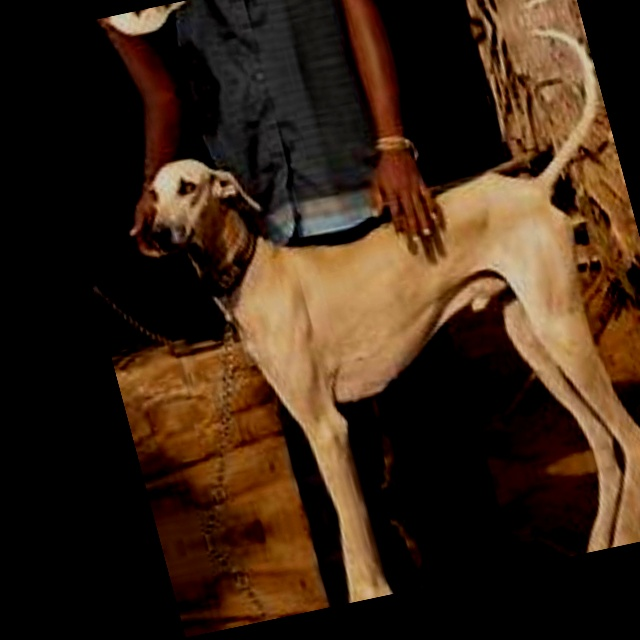dog: (102, 65, 640, 543), (202, 444, 640, 630), (65, 0, 540, 60)
